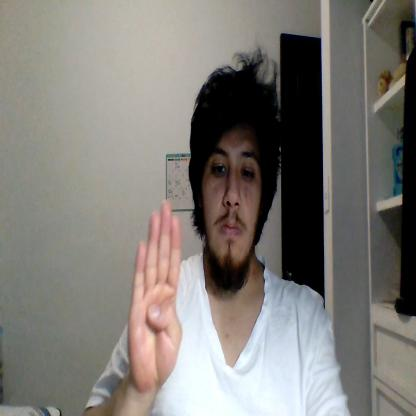B: (127, 200, 182, 388)
